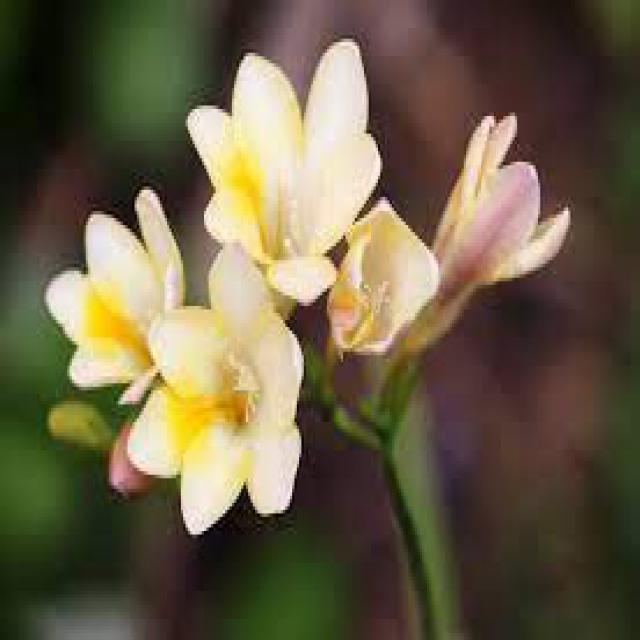freesia: (19, 193, 340, 533), (317, 106, 588, 364), (155, 28, 386, 305)
